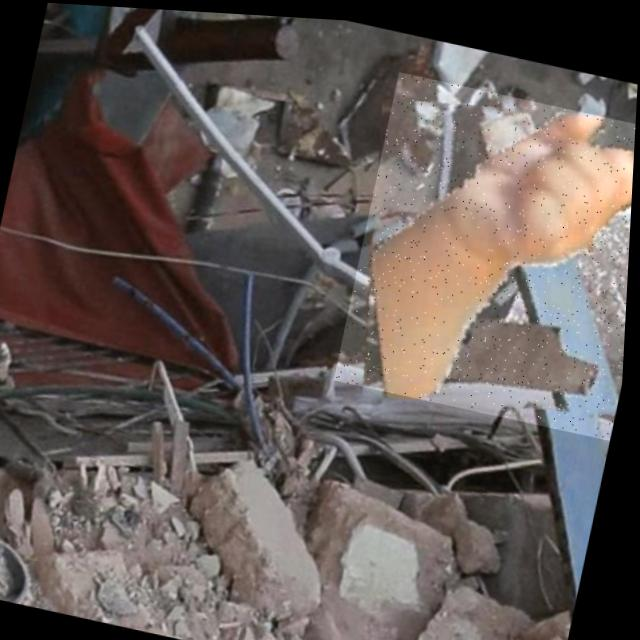Person in Rubble: (335, 64, 638, 433)
